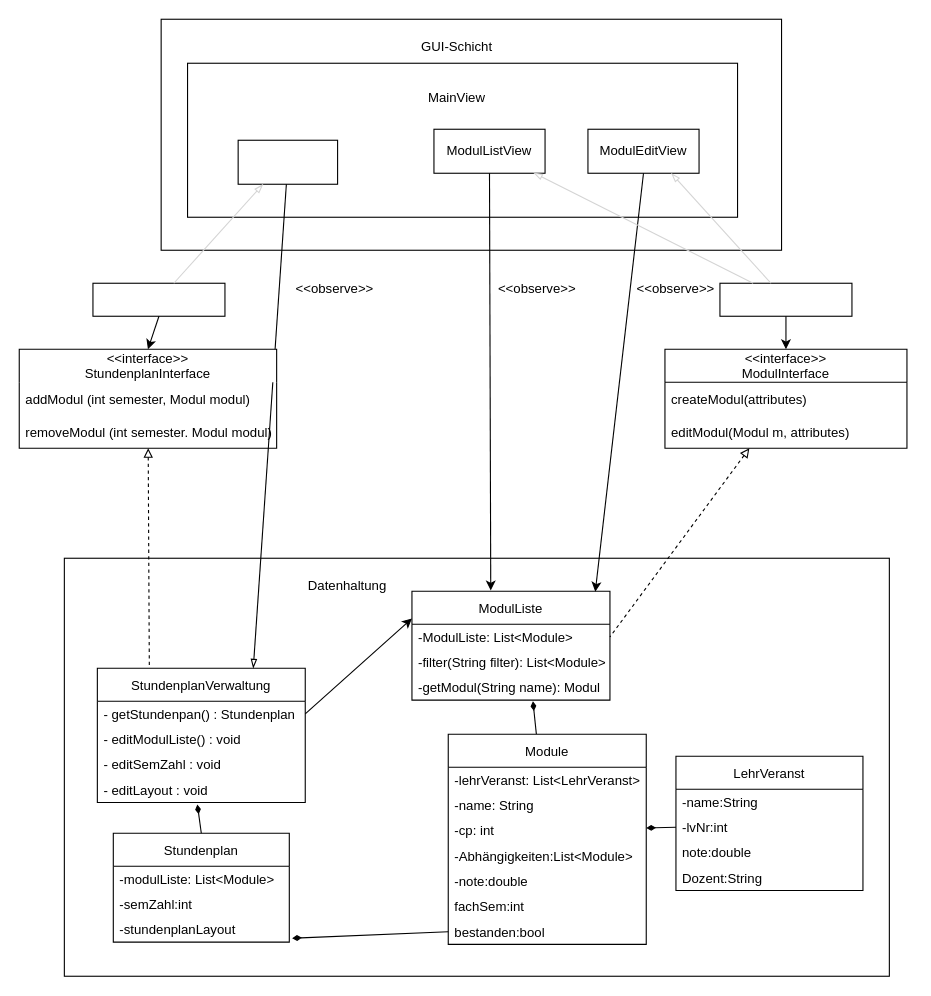
This 931x996 diagram has some shape labels left out. Here are the shapes that lost their labels. From the top down, the centre of each, then its label:
At (x=287, y=161): "PlanView".
At (x=158, y=299): "PlanController".
At (x=785, y=299): "ModulController".
